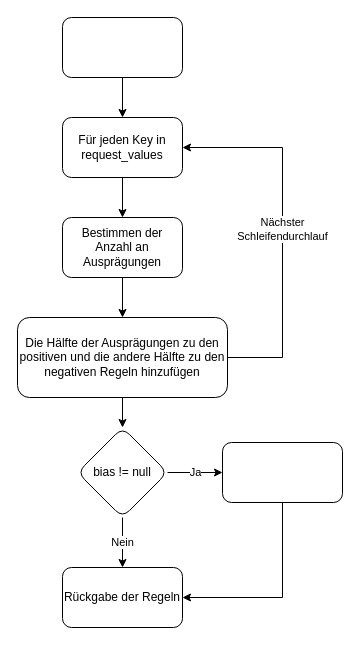
This 360x645 diagram has some shape labels left out. Here are the shapes that lost their labels. From the top down, the box of each, then its label:
(62, 16, 182, 78): Initialisieren
(222, 442, 342, 502): Hinzufügen der gewünschten Verzerrung zu rule_neg_bias
